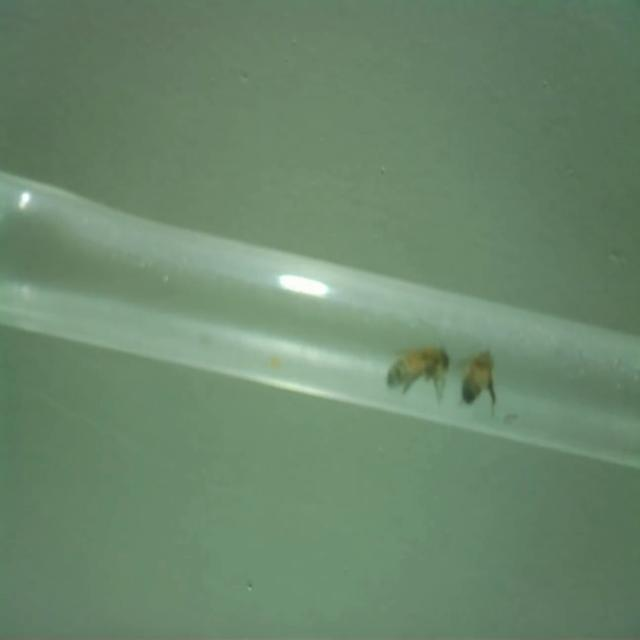Honeybee-Detection: (386, 336, 450, 404), (460, 347, 497, 416)
